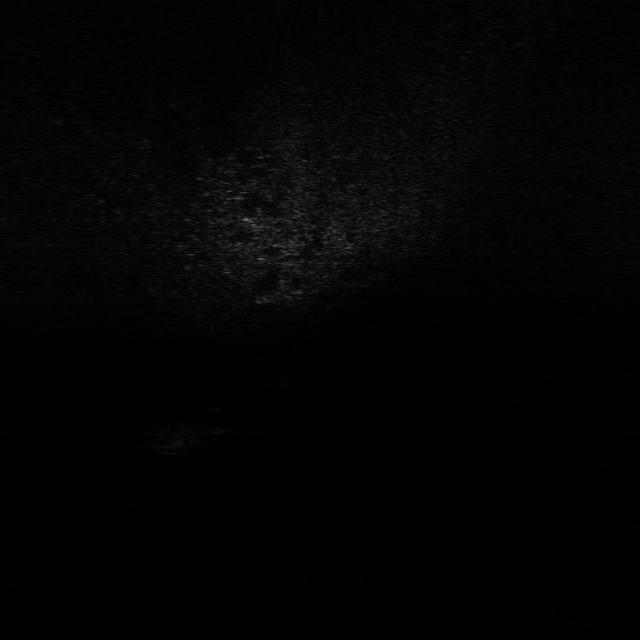ball: (200, 405, 240, 436)
circle cage: (141, 422, 208, 455)
